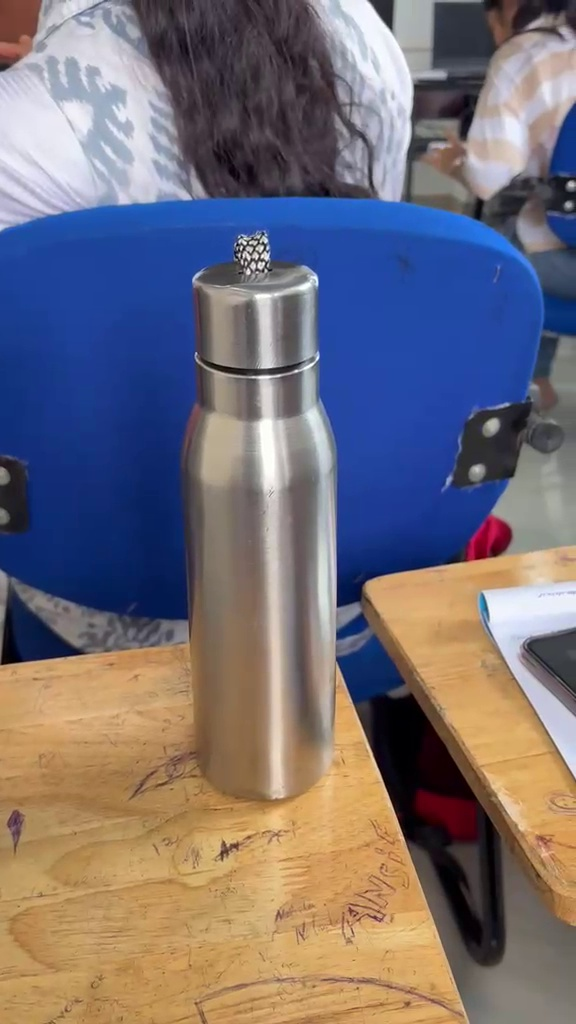Bottle: (184, 220, 342, 809)
